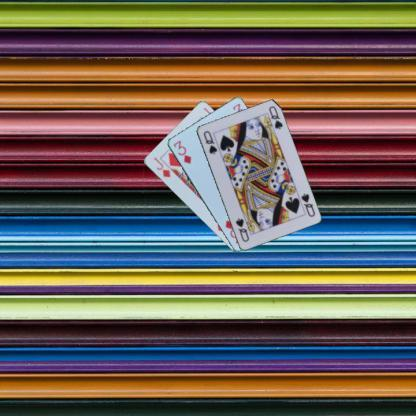3d: (170, 138, 192, 166)
Jd: (150, 154, 172, 178)
Qs: (201, 128, 219, 156), (298, 190, 316, 218)
